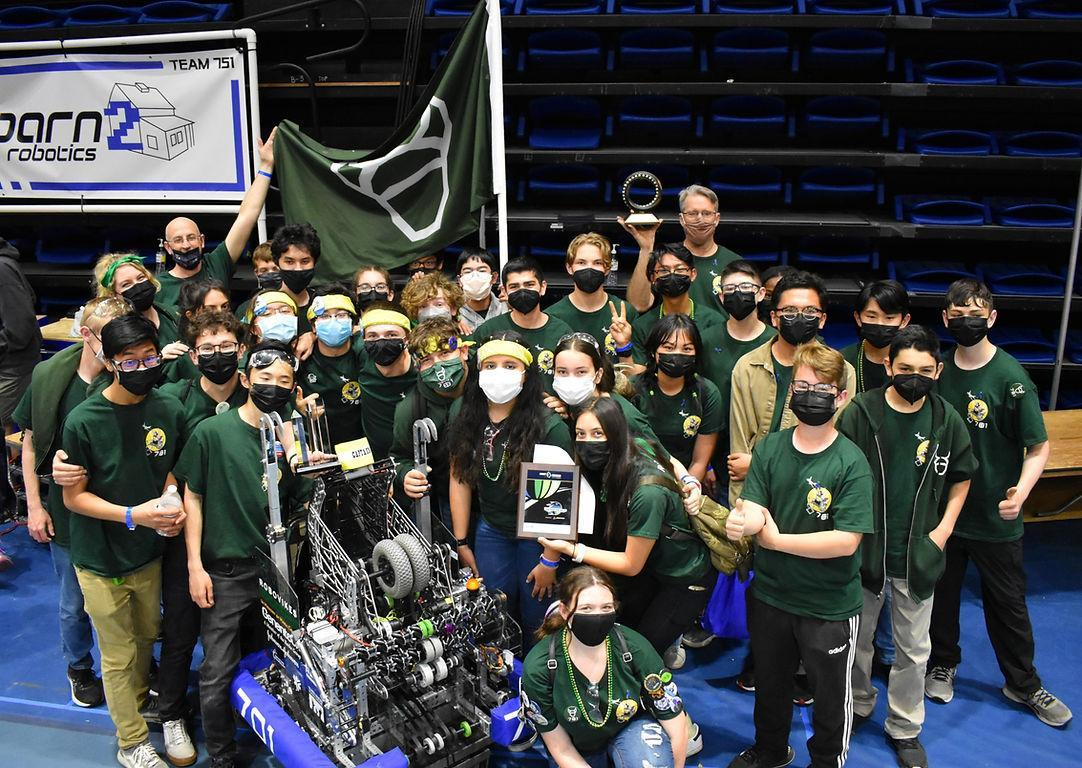robot: (227, 407, 544, 768)
